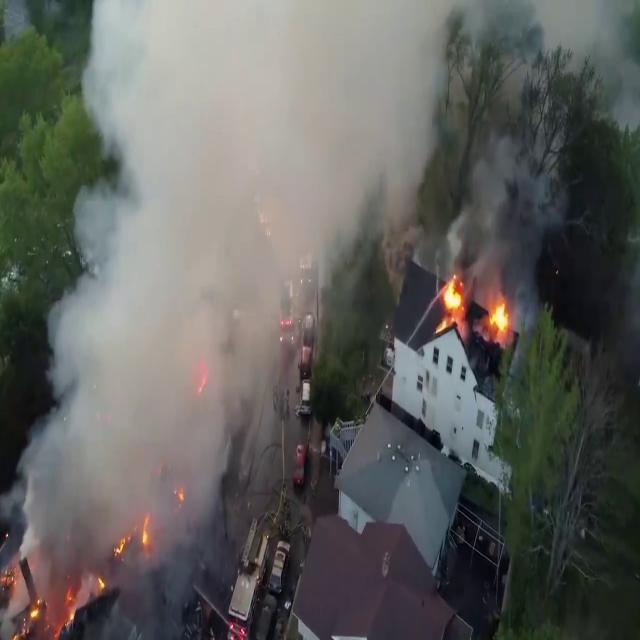Fire: (434, 272, 468, 326), (484, 292, 514, 346)
Smoke: (5, 0, 436, 601), (445, 132, 516, 276)
